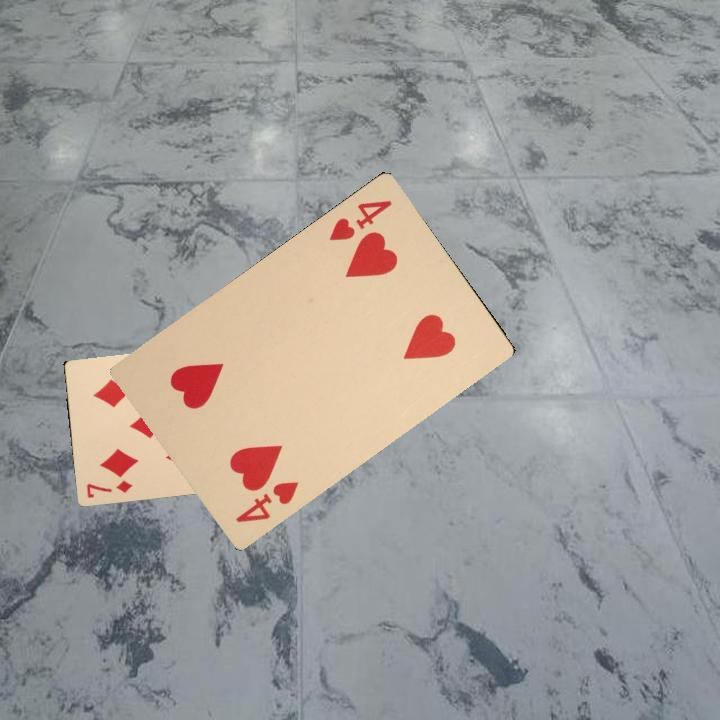4h: (325, 195, 395, 244), (231, 477, 301, 526)
7d: (82, 476, 135, 500)
